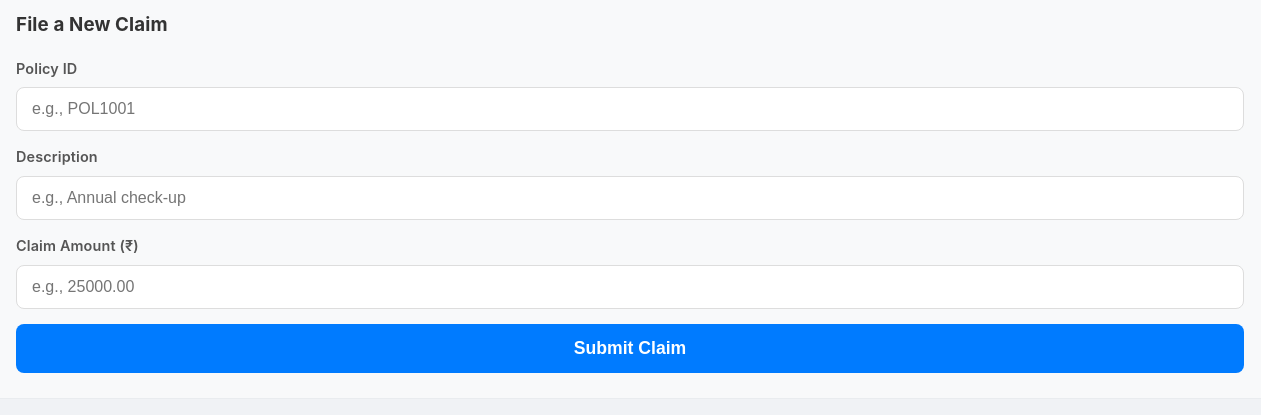
Test case: FileClaim Component › handles API errors
// Fill and submit form
Type "INVALID" into the field labelled "Policy ID". click: [630, 109]
box: [16,87,1244,131]
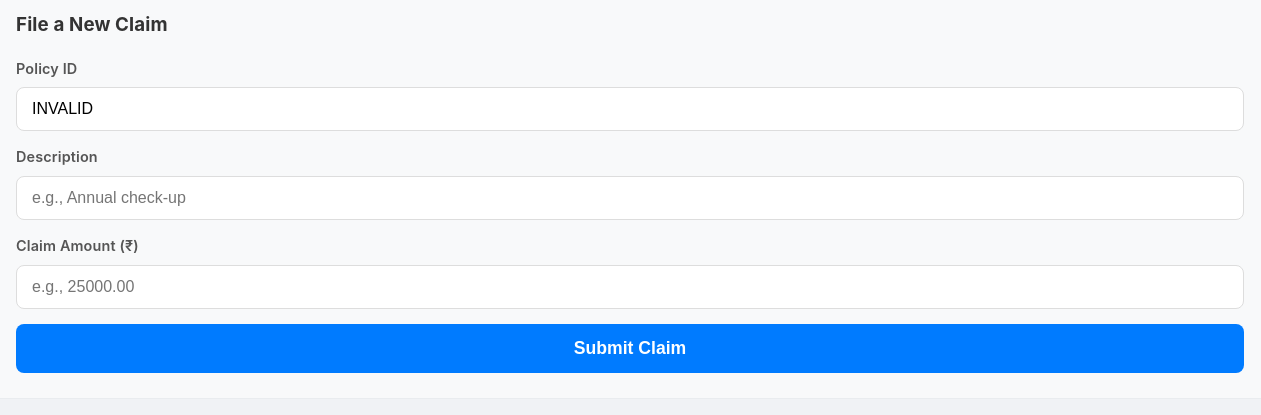
Type "Test" into the field labelled "Description". click: [630, 198]
box: [16,176,1244,220]
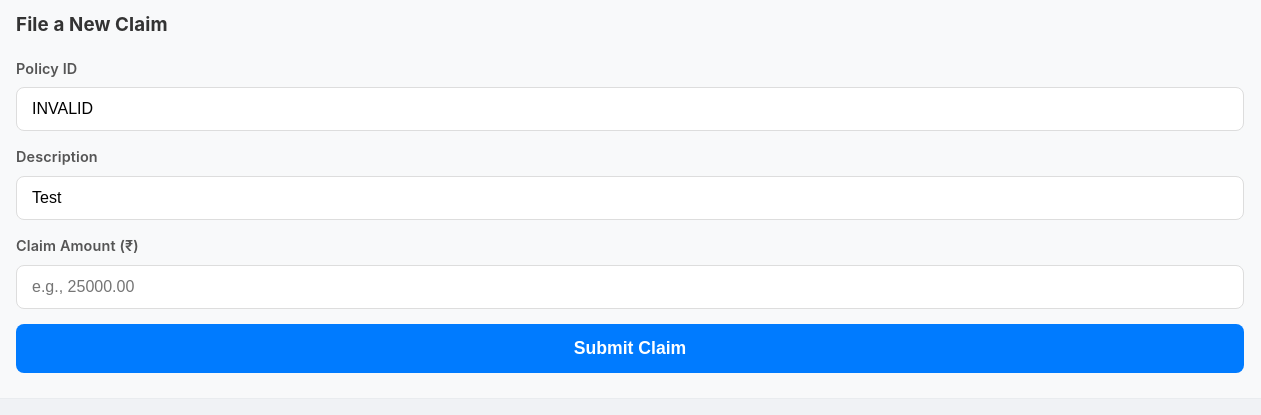
Type "100" into the number field labelled "Claim Amount (₹)". click: [630, 287]
box: [16,265,1244,309]
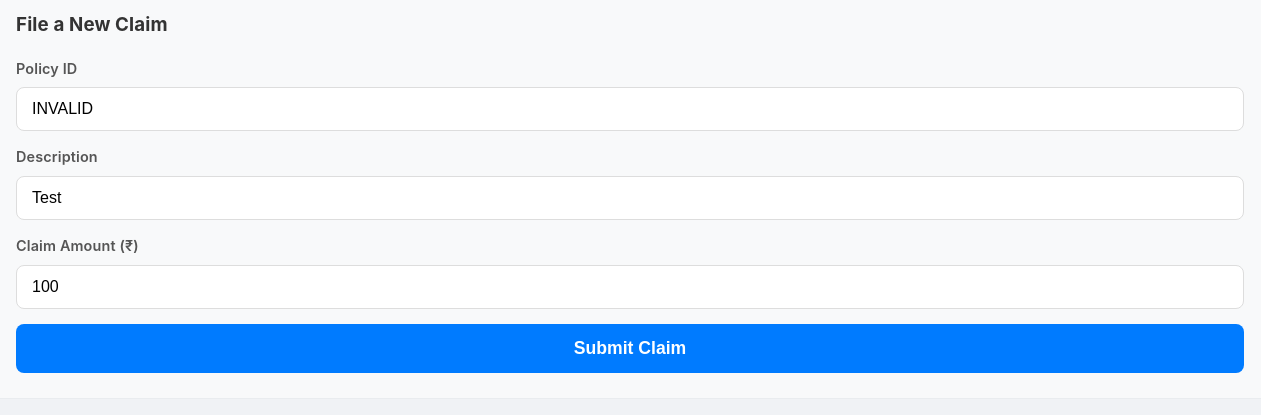
Click the button "Submit Claim". click: [630, 348]
box: [16,324,1244,373]
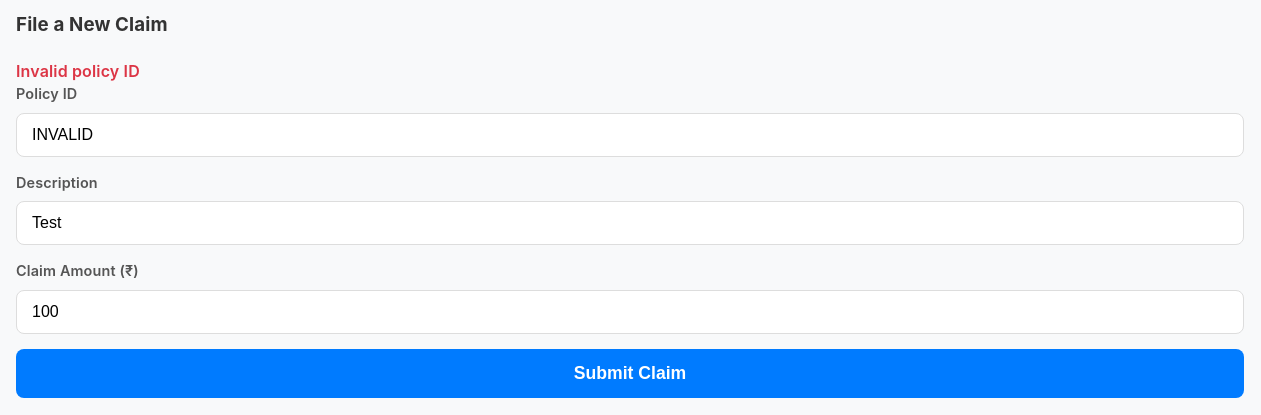
Check: the text "Invalid policy ID" is shown, box [16,61,140,81]
